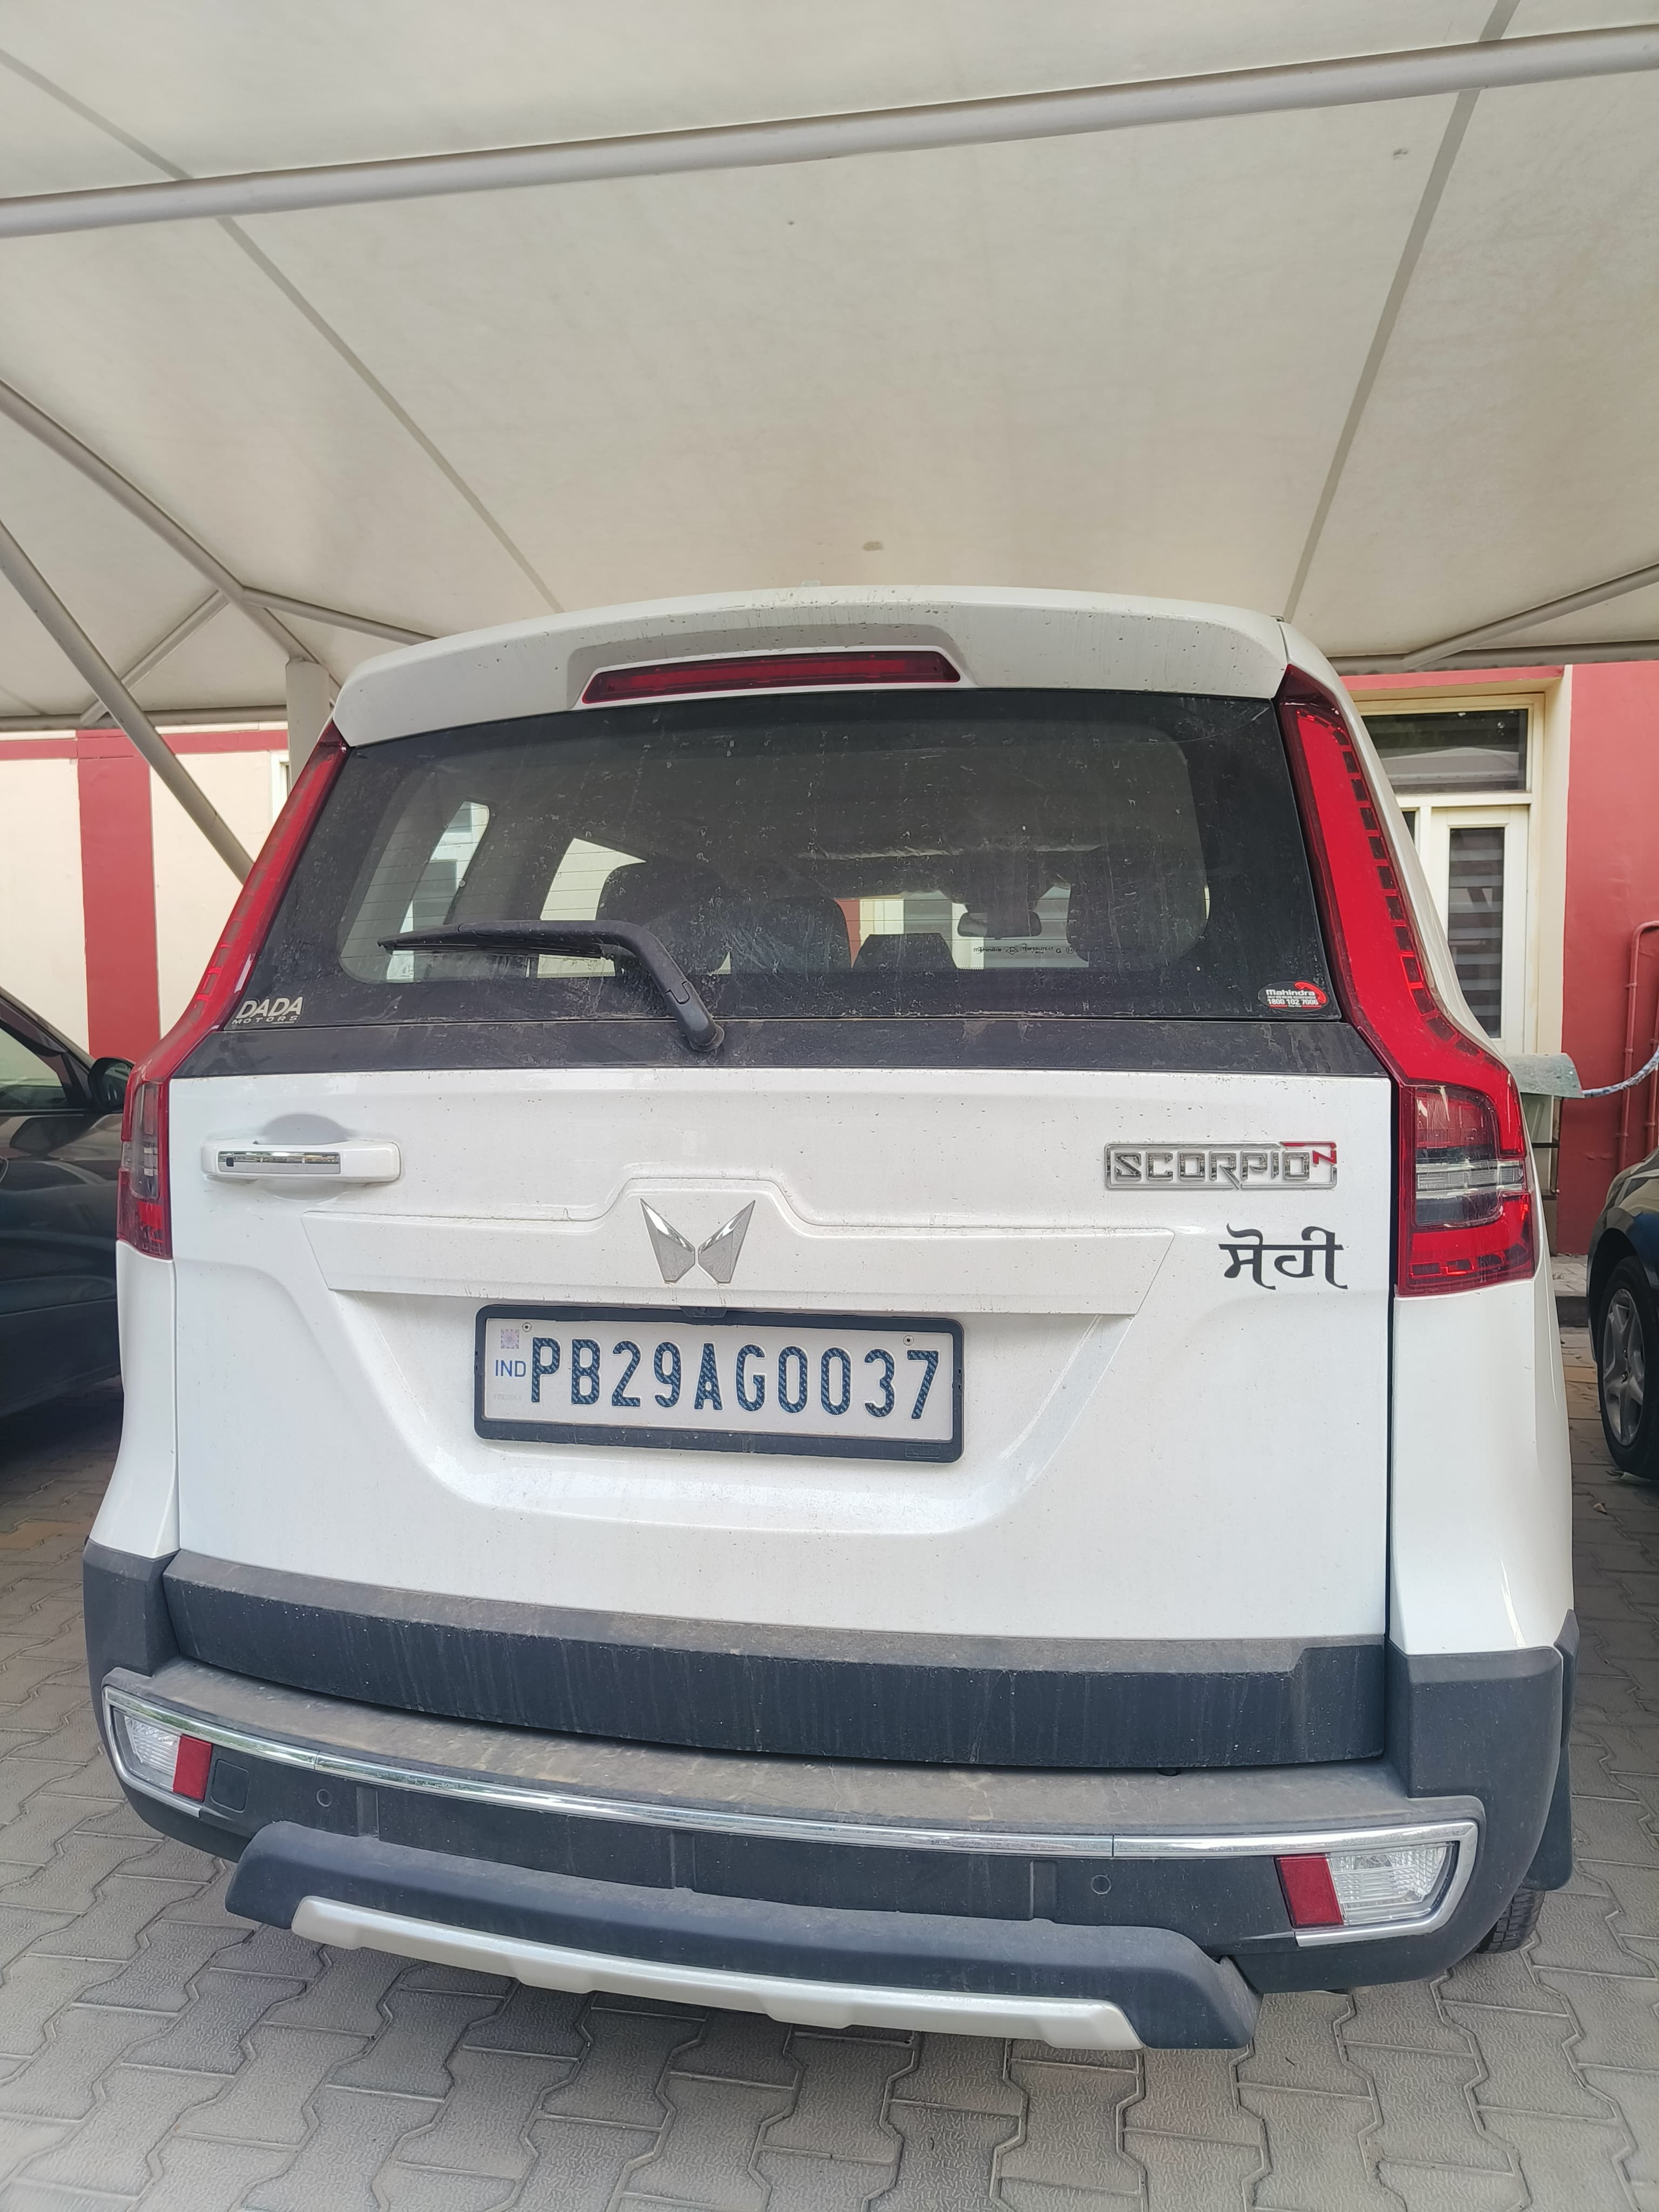license plate: (476, 1306, 961, 1461)
